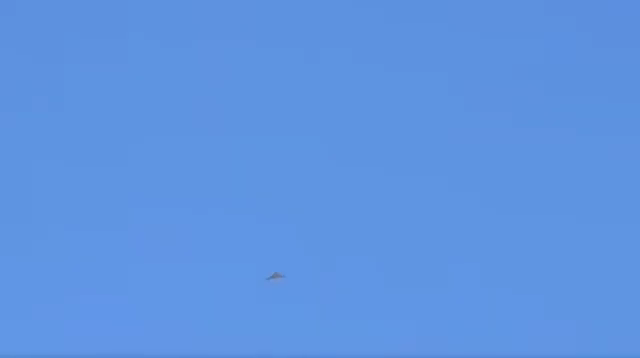shahed: (264, 270, 285, 282)
